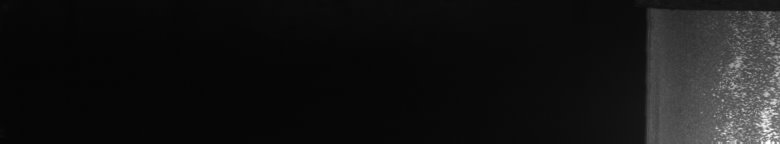kb: (704, 8, 776, 136)
